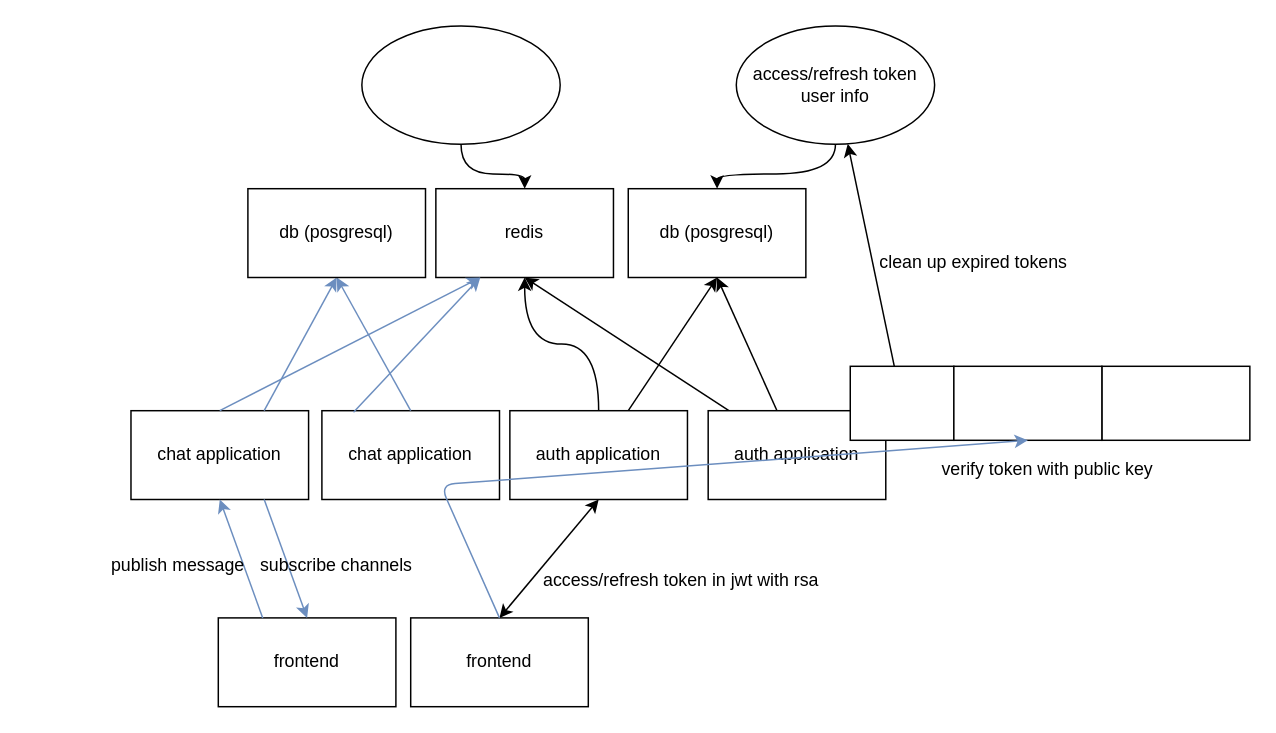
This 1276x733 diagram has some shape labels left out. Here are the shapes that lost their labels. From the top down, the centre of each, then its label:
At (460,84): "access token blacklist rate limit info".
At (901,402): "jobrunur".
At (1027,402): "rsa public key".
At (1175,402): "sign tokens with rsa private key".
